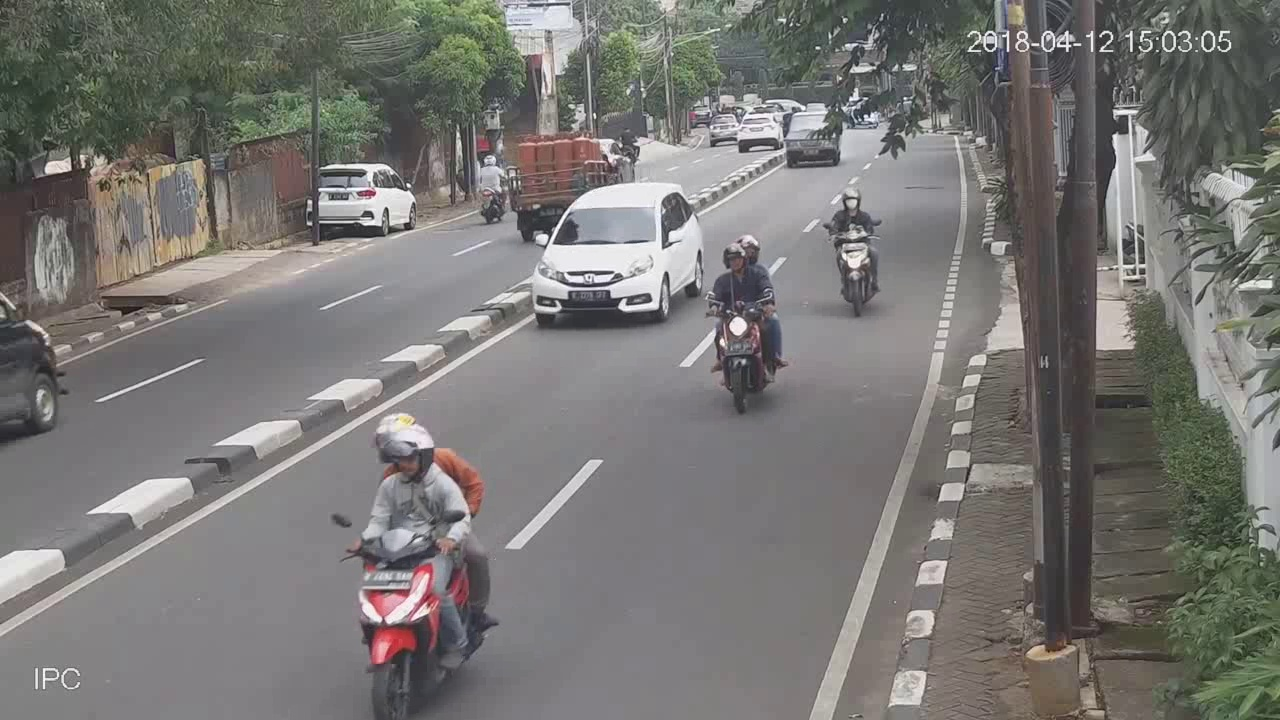car: (310, 158, 418, 242), (788, 112, 842, 168), (737, 111, 778, 150), (711, 114, 738, 146)
motorcycle: (334, 404, 501, 720), (704, 234, 789, 418), (823, 177, 895, 320), (474, 150, 507, 227)
